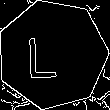L_N: (36, 29, 69, 80)
